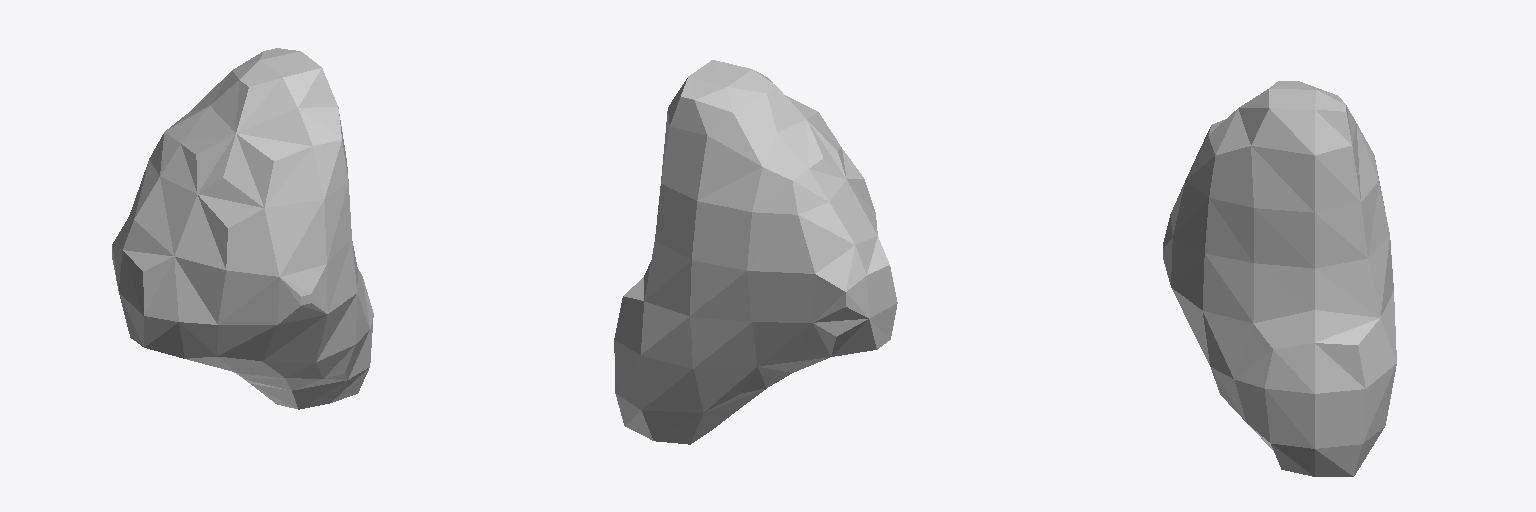
Rendered from modeloPiedras4.obj.
The picture shows the model from 3 angles: view 1: azimuth 30°, elevation 25°; view 2: azimuth 150°, elevation 25°; view 3: azimuth 270°, elevation 25°; orthographic projection.
Size of the model in its own units: 2.72 by 3.81 by 2.28.